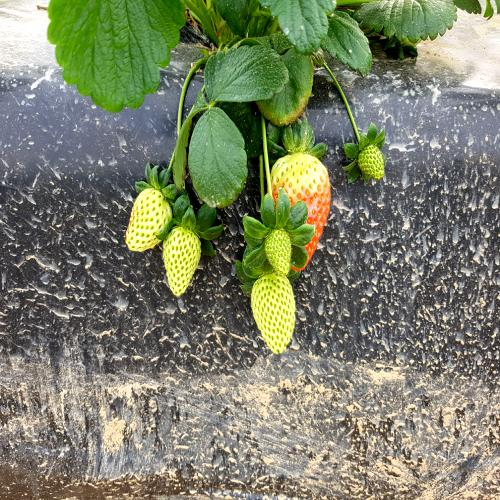partially-ripe: (268, 144, 335, 262)
unripe: (241, 267, 300, 357), (127, 179, 165, 257), (160, 226, 202, 292), (260, 214, 293, 287), (352, 139, 386, 185)
